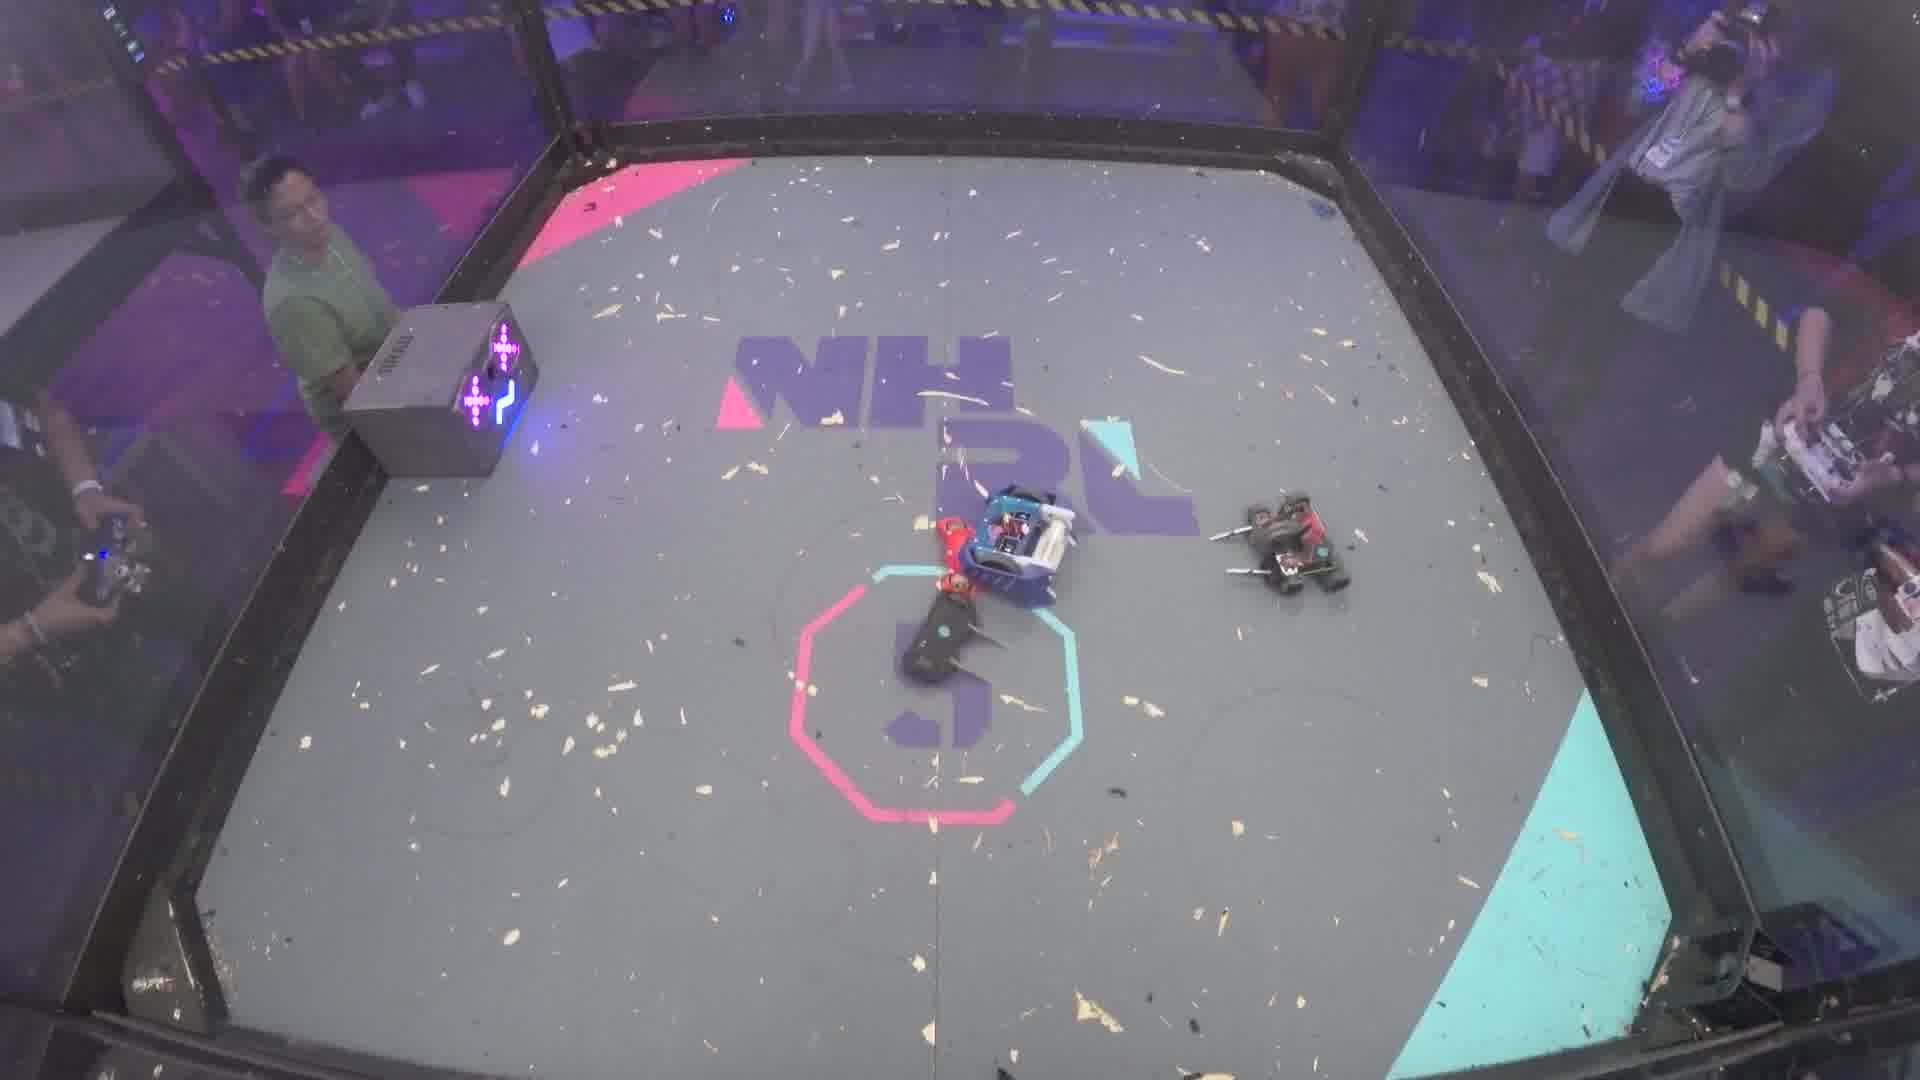combatbot: (1209, 491, 1349, 601), (963, 488, 1071, 600)
housebot: (345, 301, 535, 481)
minibot: (901, 593, 1002, 695), (934, 518, 971, 600)
